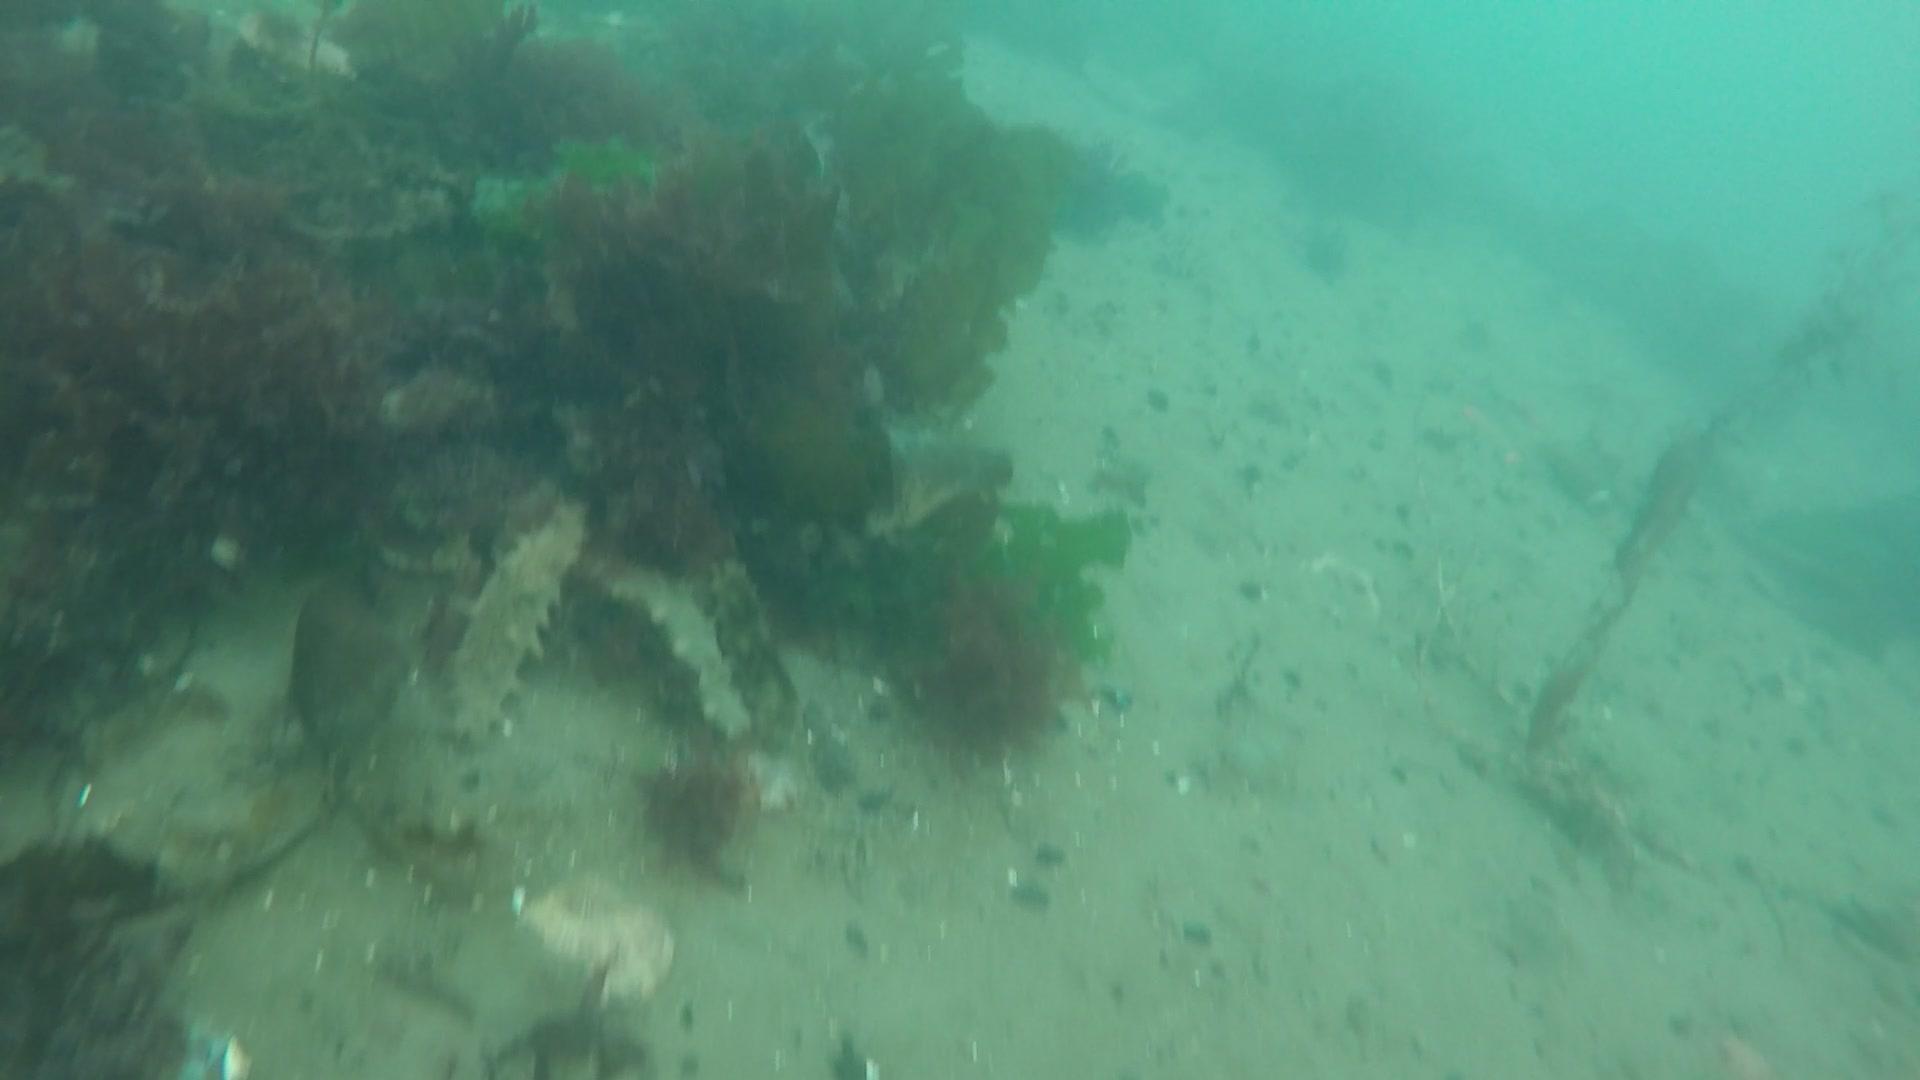holothurian: (444, 493, 596, 742), (597, 541, 752, 741), (705, 554, 806, 761)
scallop: (512, 870, 682, 1006)
